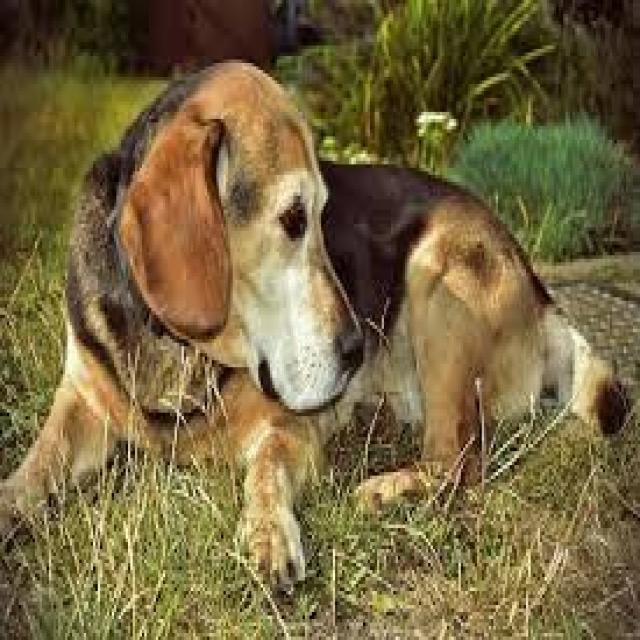Dog: (1, 57, 626, 590)
